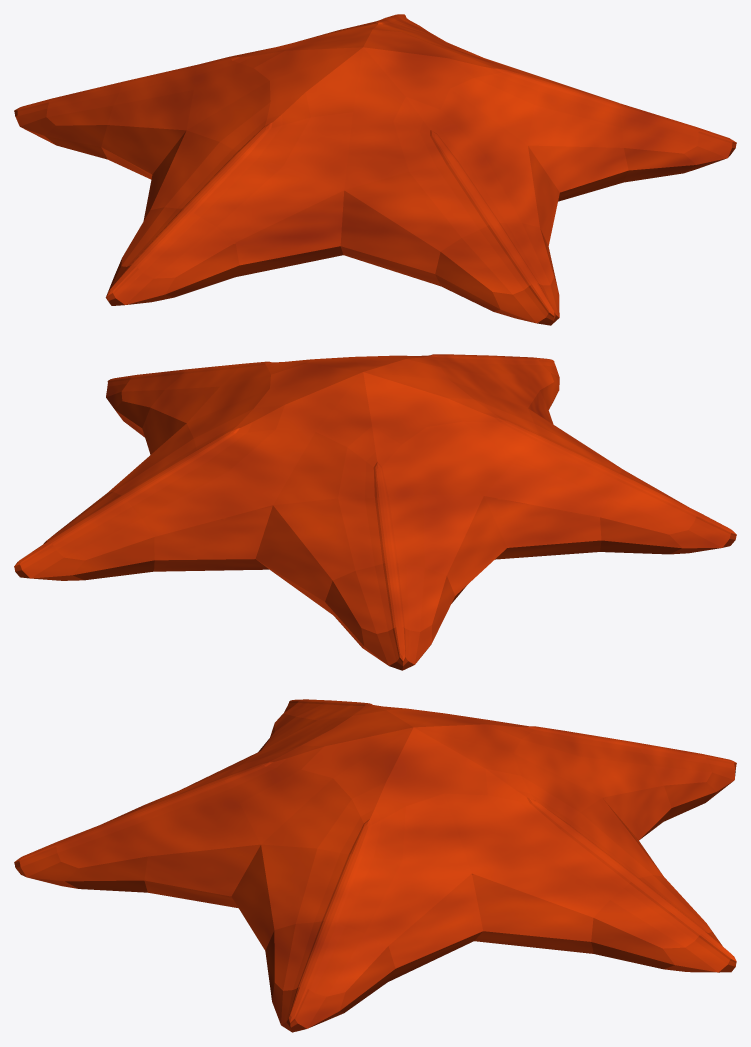
Rendered from red starfish.fbx.
3 renders of one model, top to bottom at view 1: azimuth 30°, elevation 25°; view 2: azimuth 150°, elevation 25°; view 3: azimuth 270°, elevation 25°, orthographic. The views are drawn at different scales.
Visible parts, largest first — view 1: Circle; view 2: Circle; view 3: Circle.
Part boxes in pixels (<box>): Circle: <box>14,14,736,325</box>; Circle: <box>14,354,736,670</box>; Circle: <box>14,699,736,1032</box>.
Bounding box in the file's own units: 421 × 92.48 × 401.
Materials: 1 (1 with a texture image).
